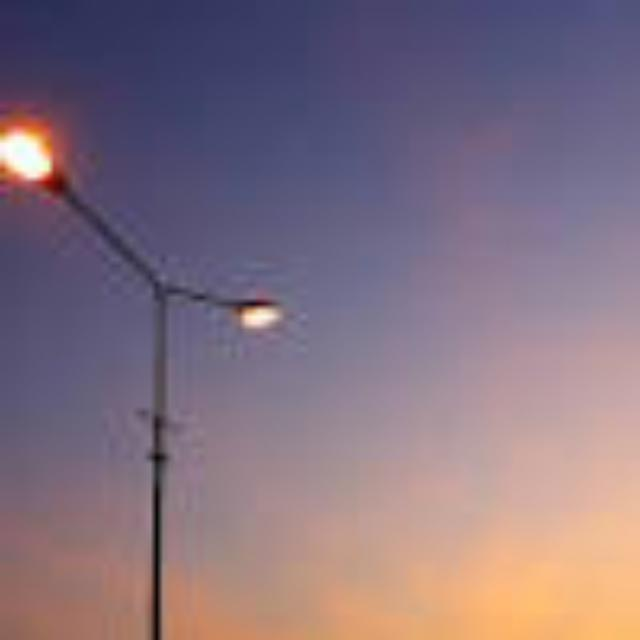obstacle: (0, 91, 294, 640)
